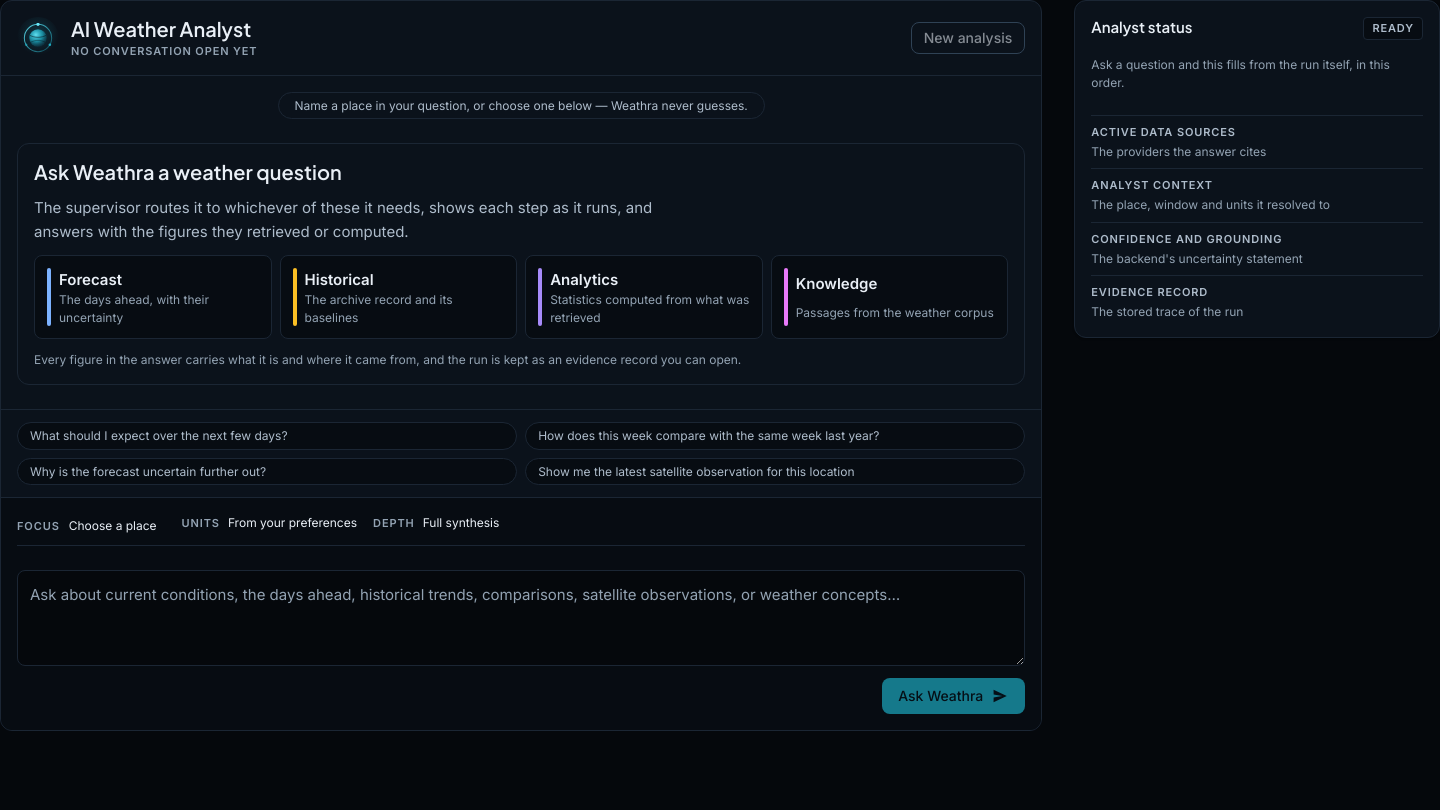
Test: a streamed answer › offers no evidence link when the backend could not store the record
Step 1. Replace the text in the text box named "Your weather question" with "What should I expect?" → (521, 618), box x1=17 y1=570 x2=1025 y2=666
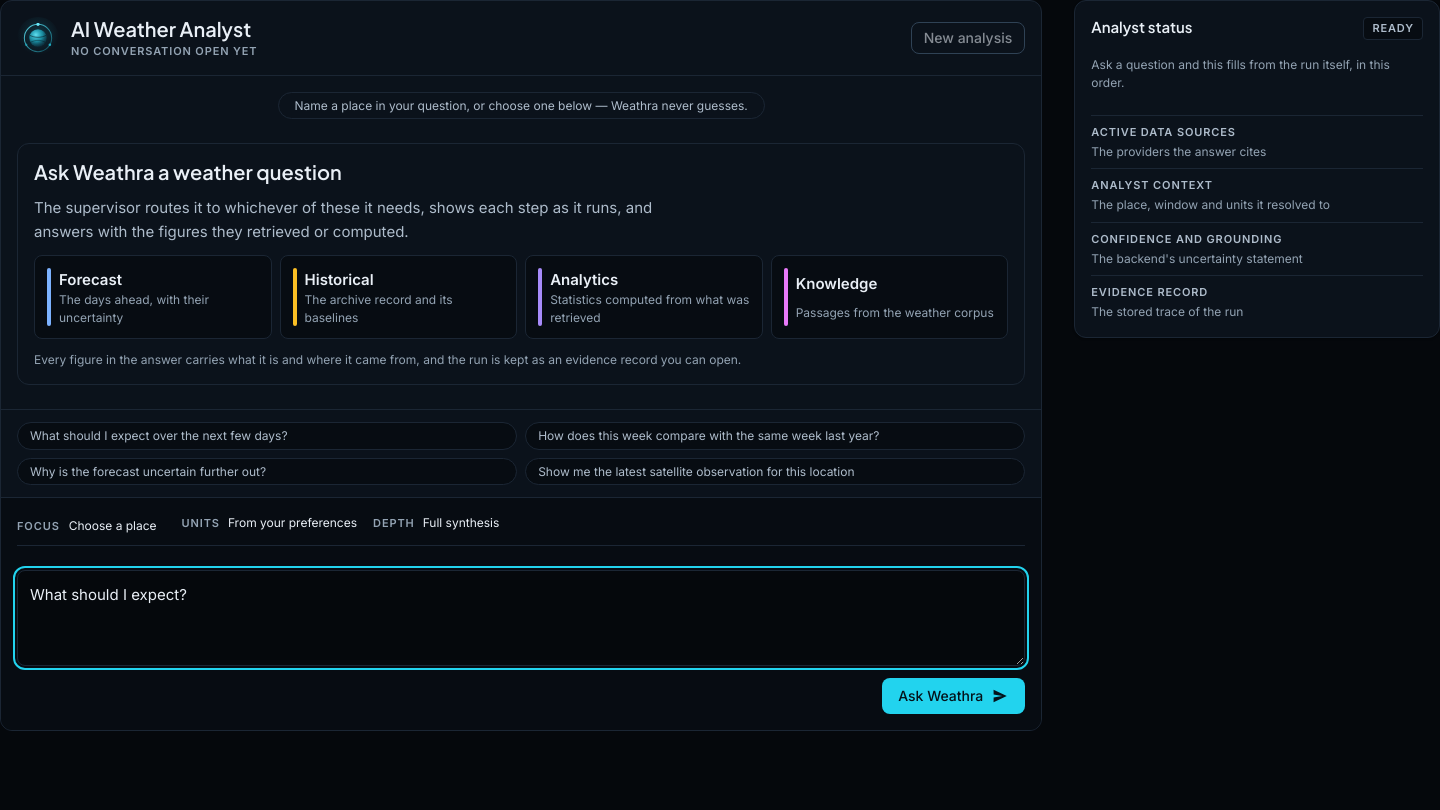
Step 2. Click the button "Ask Weathra" → (954, 696), box x1=882 y1=678 x2=1025 y2=714
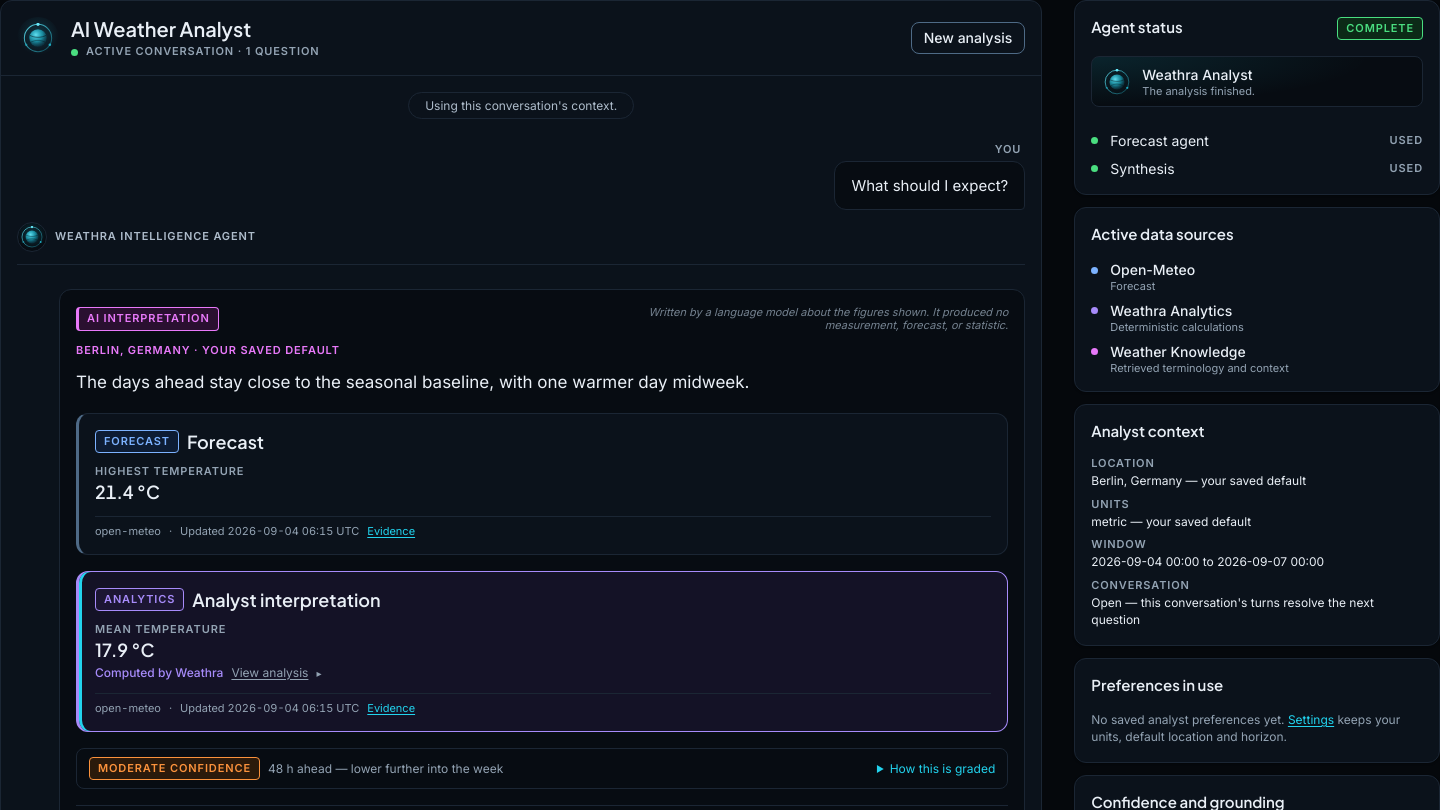
Result: the element "AI INTERPRETATION" is shown at x1=76 y1=306 x2=1008 y2=397
